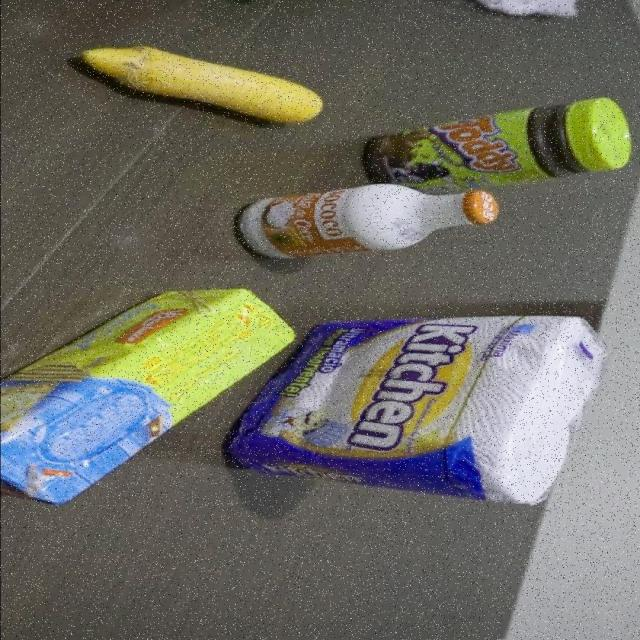Carrot: (65, 41, 324, 127)
ChocolatePowder: (357, 94, 633, 183)
CoconutMilk: (233, 182, 498, 260)
Cracker: (0, 285, 299, 507)
Napkin: (223, 312, 611, 509)
